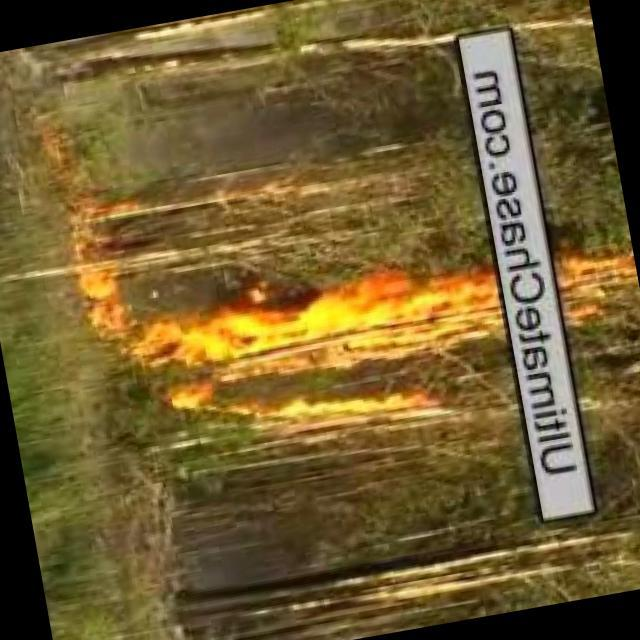Fire: (145, 262, 500, 401), (228, 370, 442, 461), (75, 244, 122, 367), (559, 253, 640, 309)
